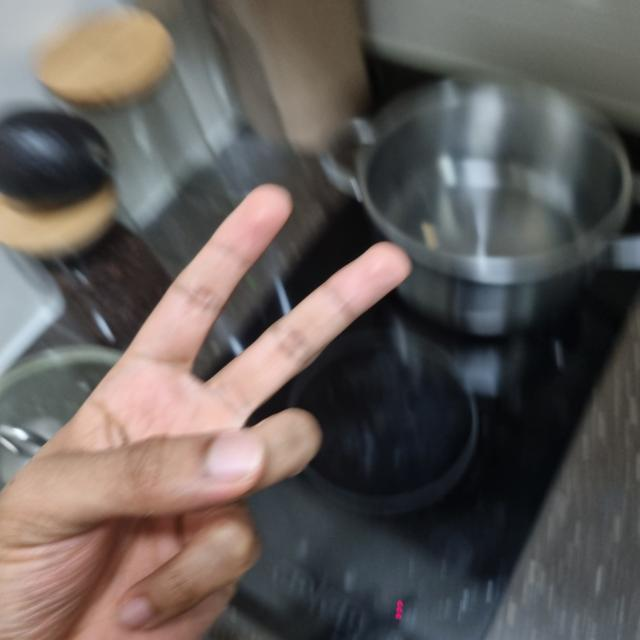Scissors: (1, 190, 406, 640)
